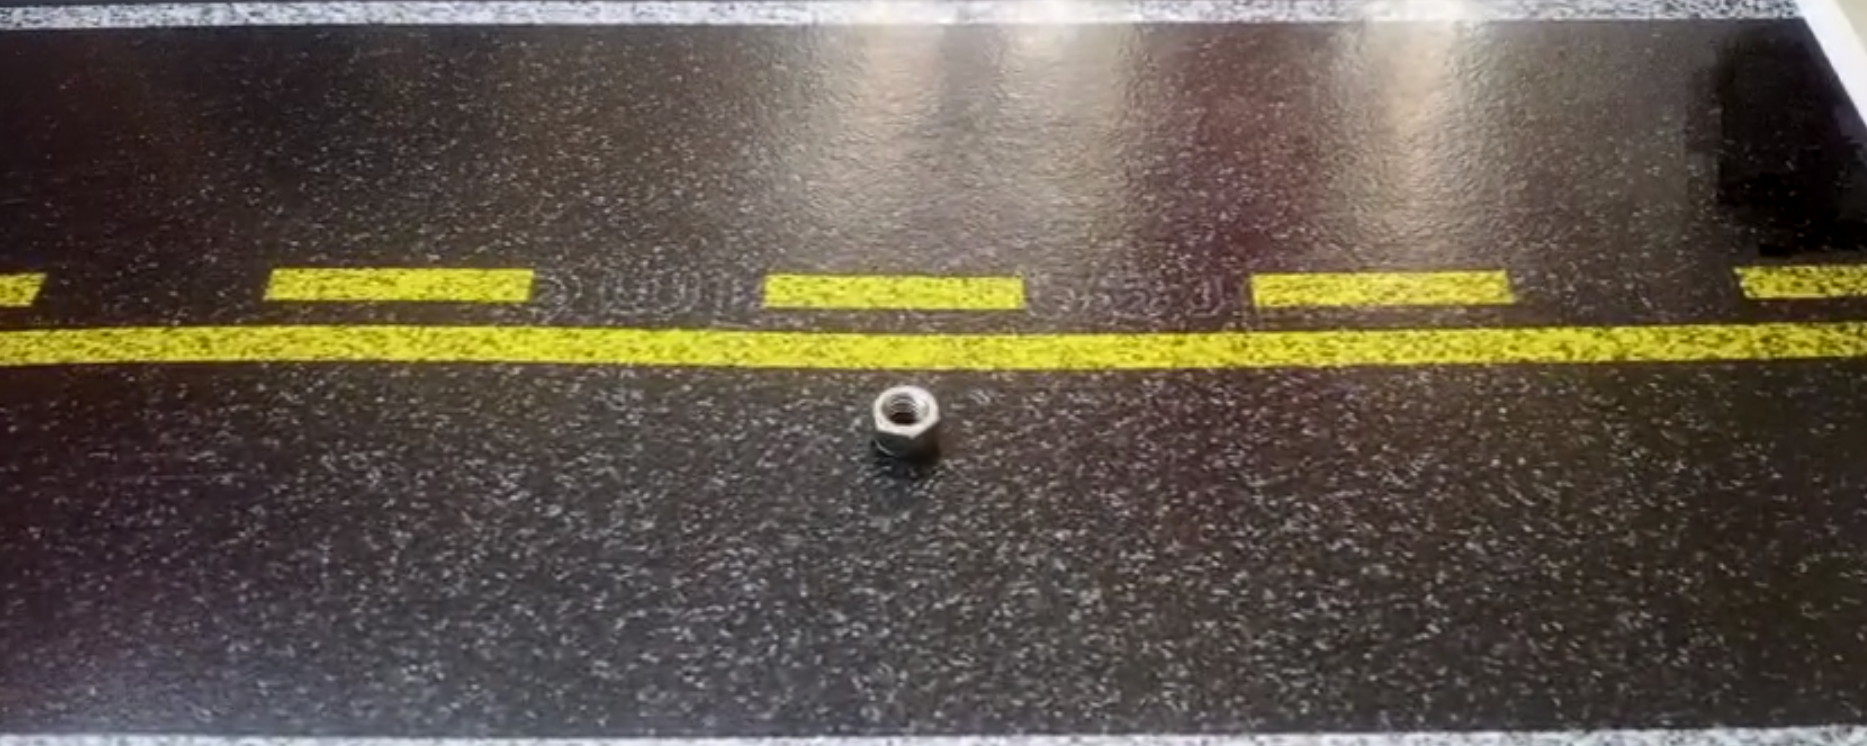metal: (867, 385, 945, 466)
